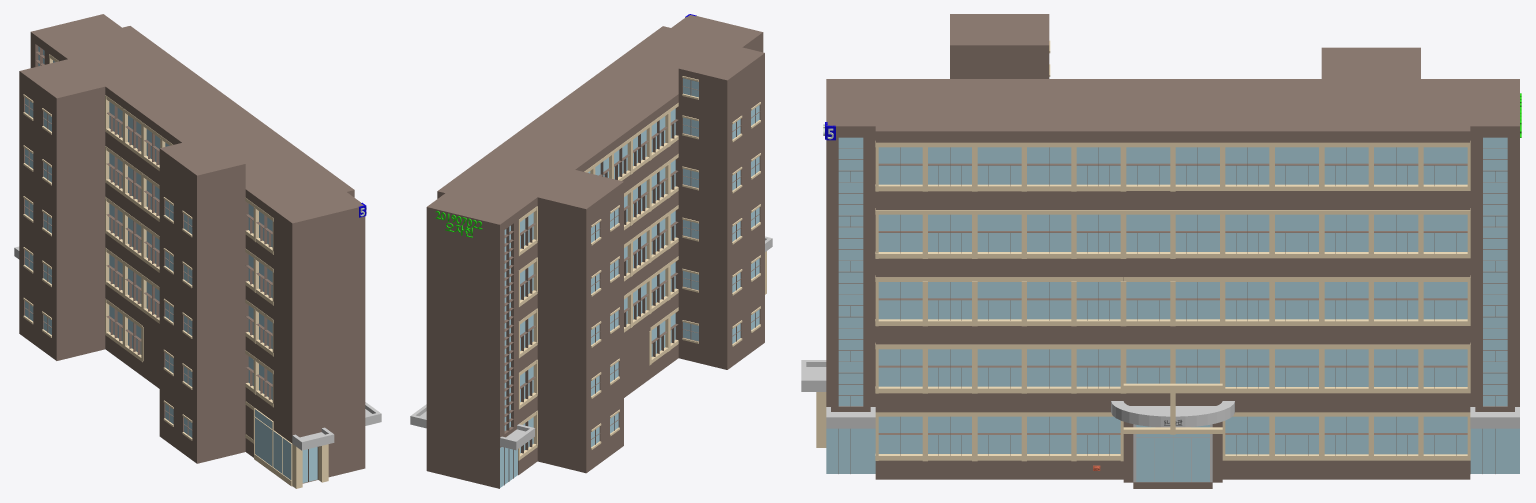
The model's file is 5building_3.glb.
3 renders of one model, left to right at view 1: azimuth 30°, elevation 25°; view 2: azimuth 150°, elevation 25°; view 3: azimuth 270°, elevation 25°, orthographic. The views are drawn at different scales.
Parts seen in each view (by area): view 1: main, Cube.007, Cube.018, sidebar-1, Cube.056, 후면창문, sidebar-2, Cube.048, Cube.059, Plane.004, Cube.051, Cube.040 (+4 smaller); view 2: main, sidebar-2, Cube.007, Cube.018, Cube.056, 후면창문, sidebar-1, Cube.049, Cube.048, Cube.059, Cube.040, Cube.038 (+3 smaller); view 3: main, 전면창문, Cube.068, sidebar-2, sidebar-1, Cube.007, Cube.027, Cube.065, Cube.018, Cylinder, Cube.029, Cube.011 (+8 smaller).
Part boxes in pixels (box(x1,y1,x2,y2)): main: box(49, 26, 354, 457); Cube.007: box(159, 136, 245, 463); Cube.018: box(19, 59, 105, 360); sidebar-1: box(273, 192, 365, 483); Cube.056: box(49, 54, 273, 443); 후면창문: box(53, 60, 272, 399); sidebar-2: box(30, 14, 121, 67); Cube.048: box(165, 200, 192, 437); Cube.059: box(25, 97, 51, 334); Plane.004: box(254, 408, 273, 472); Cube.051: box(272, 430, 292, 486); Cube.040: box(163, 197, 192, 440); main: box(437, 26, 744, 474); sidebar-2: box(426, 193, 518, 488); Cube.007: box(678, 41, 764, 369); Cube.018: box(537, 170, 623, 473); Cube.056: box(518, 103, 678, 460); 후면창문: box(520, 108, 675, 453); sidebar-1: box(671, 15, 763, 52); Cube.049: box(683, 78, 698, 341); Cube.048: box(732, 105, 759, 343); Cube.059: box(591, 208, 618, 447); Cube.040: box(732, 102, 760, 346); Cube.038: box(504, 225, 510, 430); main: box(875, 79, 1470, 479); 전면창문: box(878, 147, 1467, 454); Cube.068: box(875, 141, 1470, 461); sidebar-2: box(1470, 79, 1519, 473); sidebar-1: box(826, 79, 875, 473); Cube.007: box(950, 14, 1049, 78); Cube.027: box(838, 137, 863, 361); Cube.065: box(1483, 137, 1507, 361); Cube.018: box(1321, 47, 1420, 78); Cylinder: box(1111, 401, 1234, 427); Cube.029: box(826, 428, 875, 473); Cube.011: box(1470, 428, 1519, 473).
Bounding box in the file's own units: 129 × 170 × 291.
